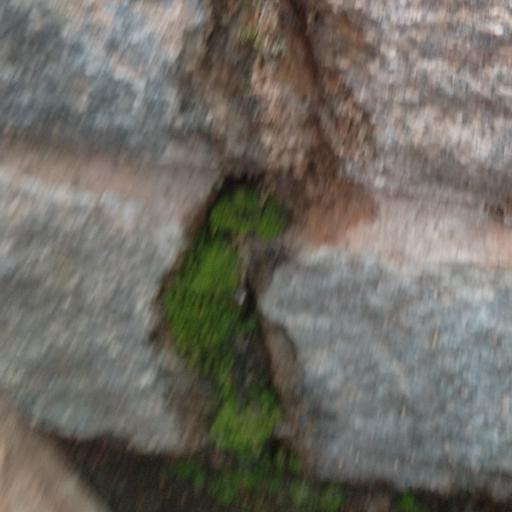algae: (157, 95, 352, 512)
